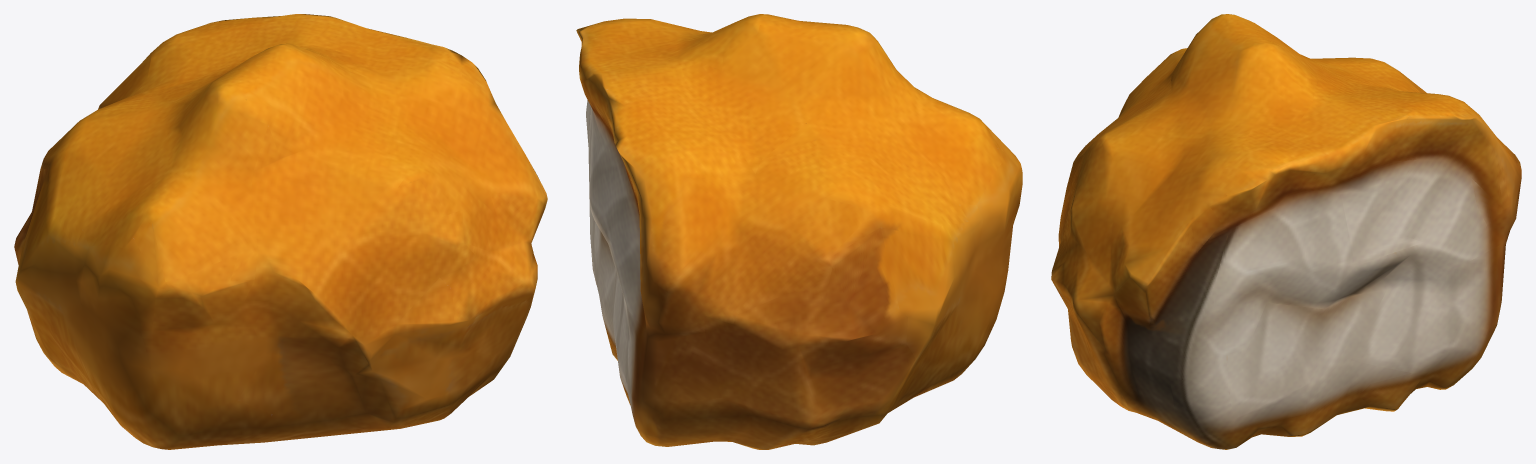
The model's file is Eel_Fry_04.fbx.
3 renders of one model, left to right at view 1: azimuth 30°, elevation 25°; view 2: azimuth 150°, elevation 25°; view 3: azimuth 270°, elevation 25°, orthographic. The views are drawn at different scales.
Visible parts, largest first — view 1: Eel_Fry_04; view 2: Eel_Fry_04; view 3: Eel_Fry_04.
Part boxes in pixels (x1,y1,x2,y2): Eel_Fry_04: (14,14,547,449); Eel_Fry_04: (576,14,1022,449); Eel_Fry_04: (1051,14,1521,449).
Bounding box in the file's own units: 0.417 × 0.3372 × 0.4195.
Materials: 1 (1 with a texture image).
